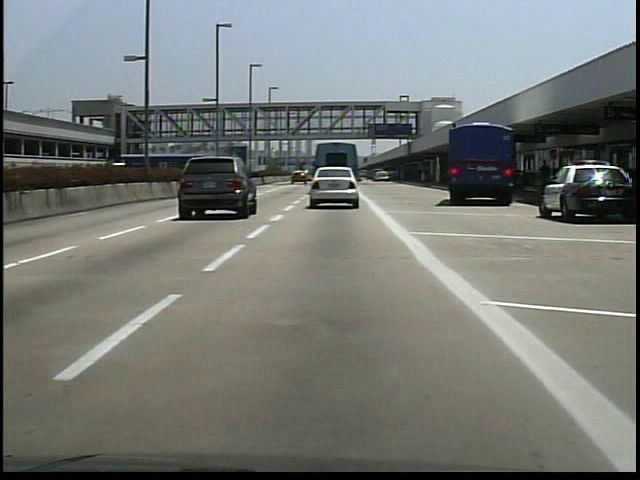person: (536, 154, 556, 201)
